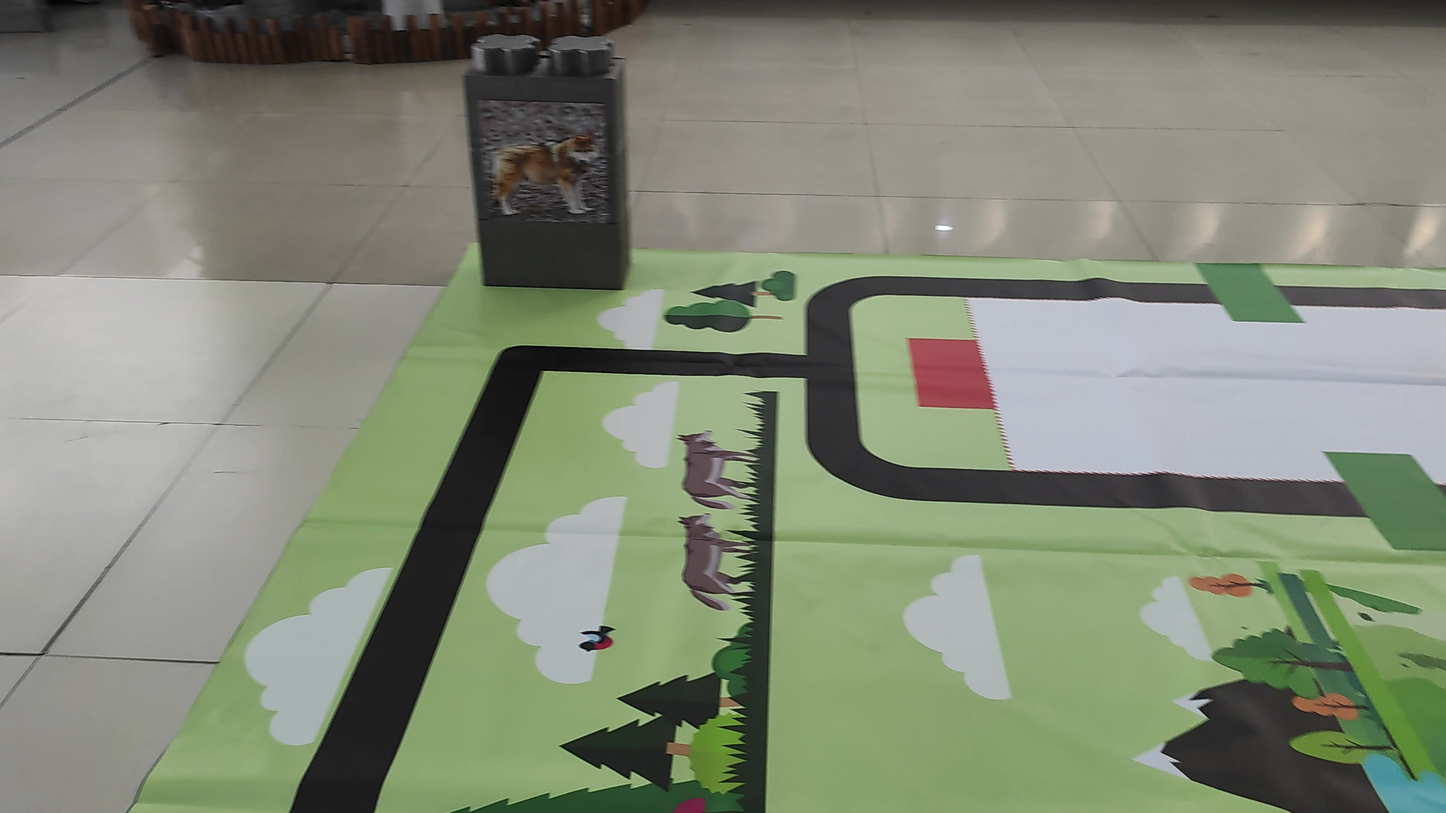wolf: (477, 101, 604, 218)
